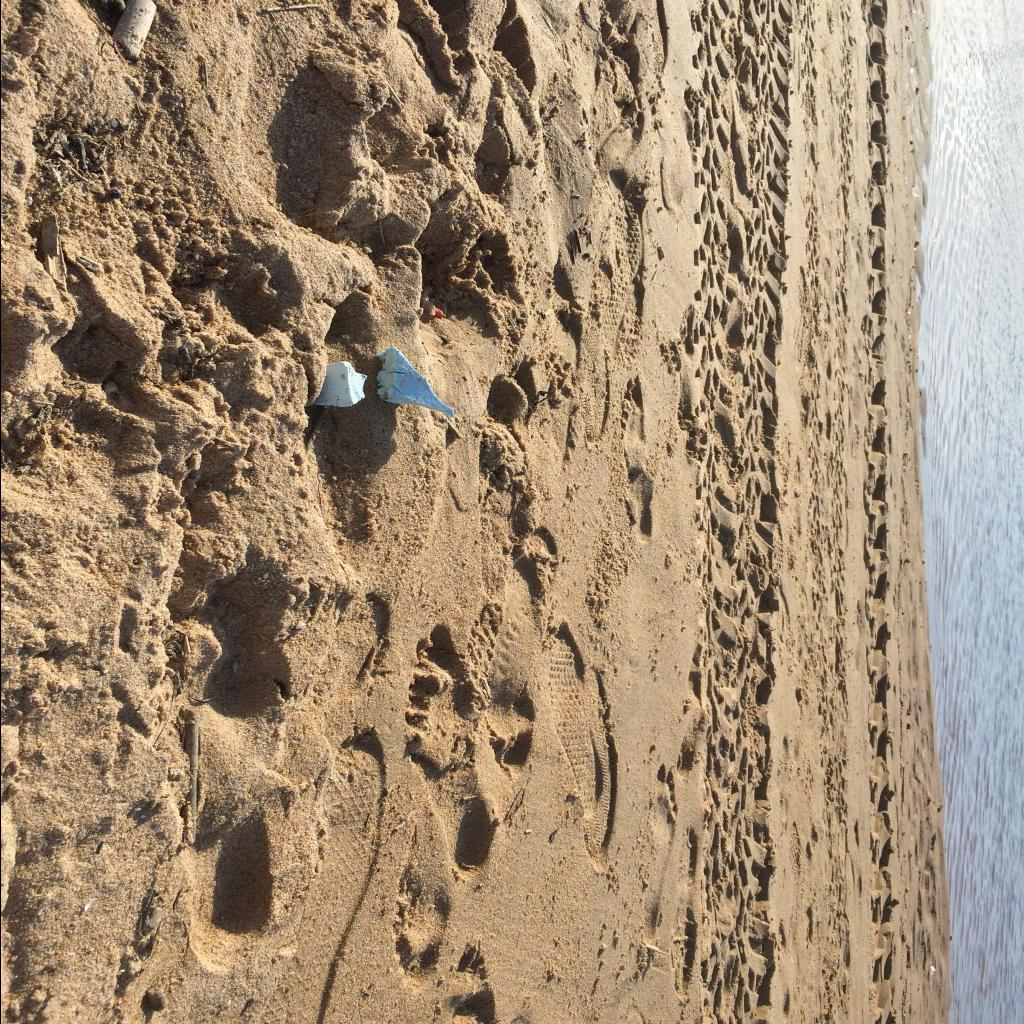Styrofoam piece: (374, 346, 454, 418), (312, 362, 366, 406)
Unlabeled litter: (420, 286, 446, 318)
